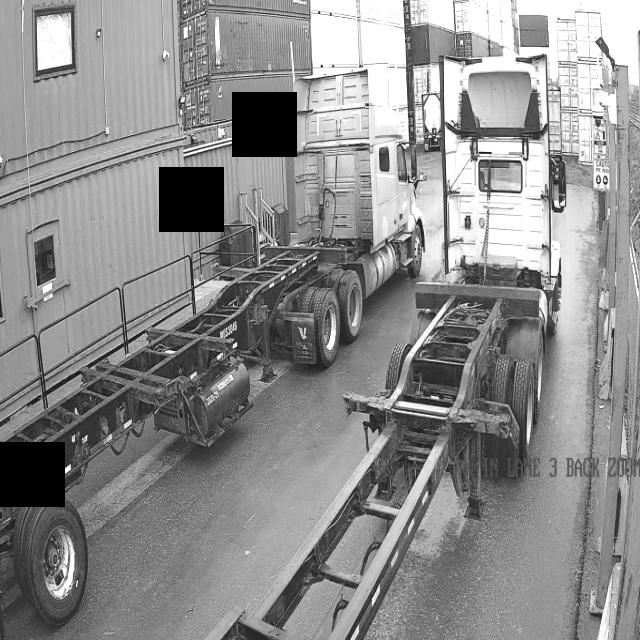truck_without_container: (0, 70, 425, 624), (198, 64, 573, 640)
